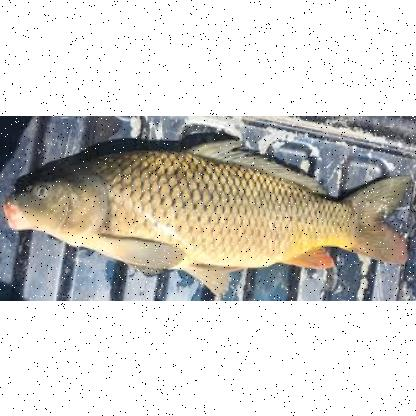ikan-mas: (3, 138, 408, 292)
